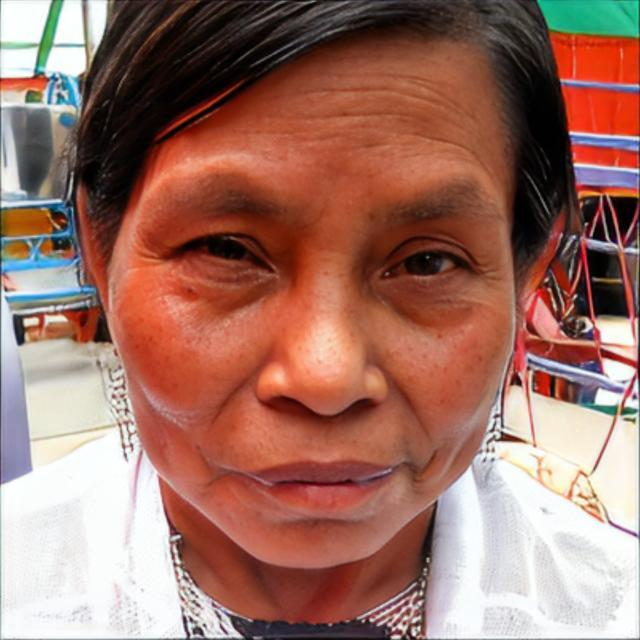sad: (115, 49, 517, 578)
